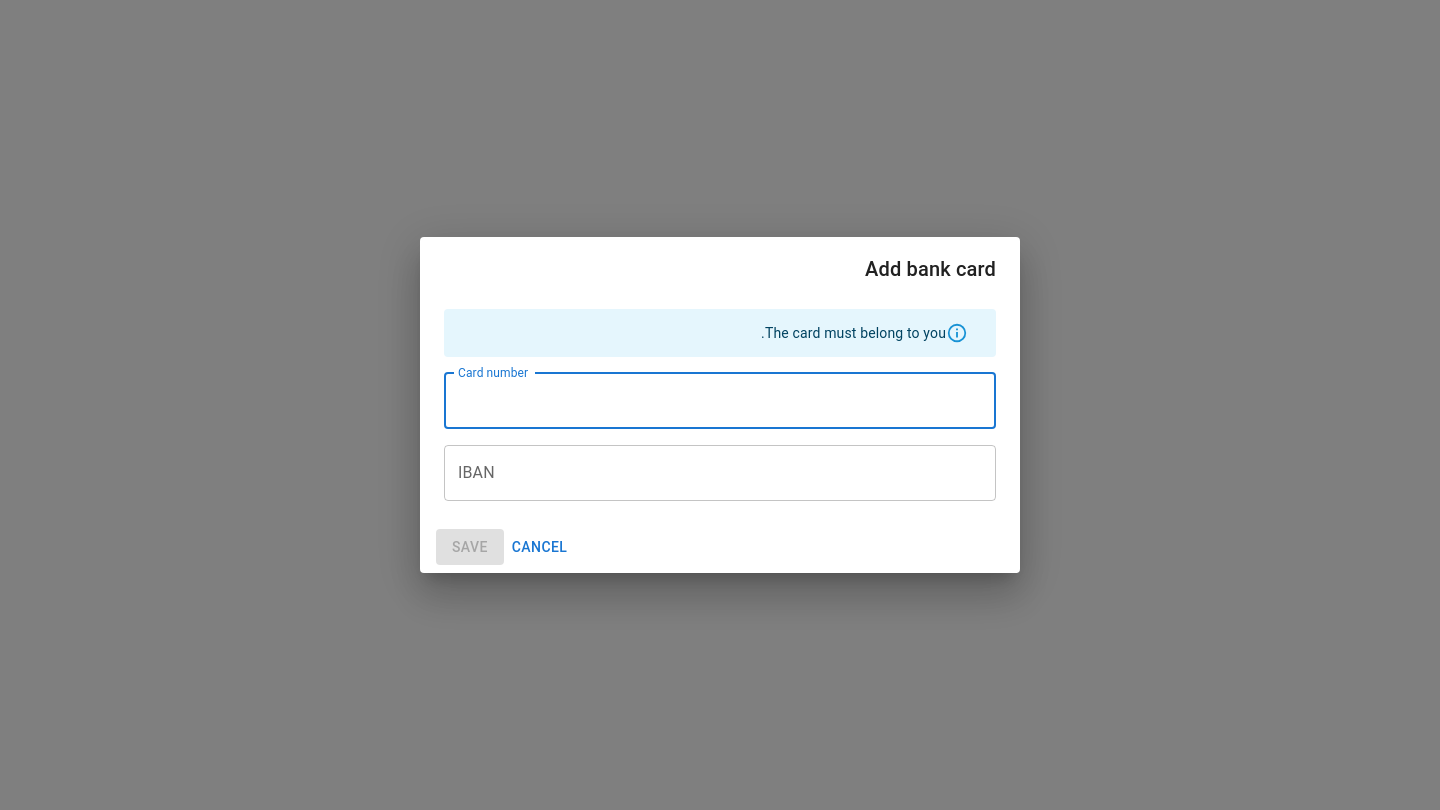
it: AddBankCardDialog › shows localized field errors and blocks invalid submission
Type "1111111111111111" into the field labelled "Card number". click: (720, 401)
box: 444,373 -> 996,429
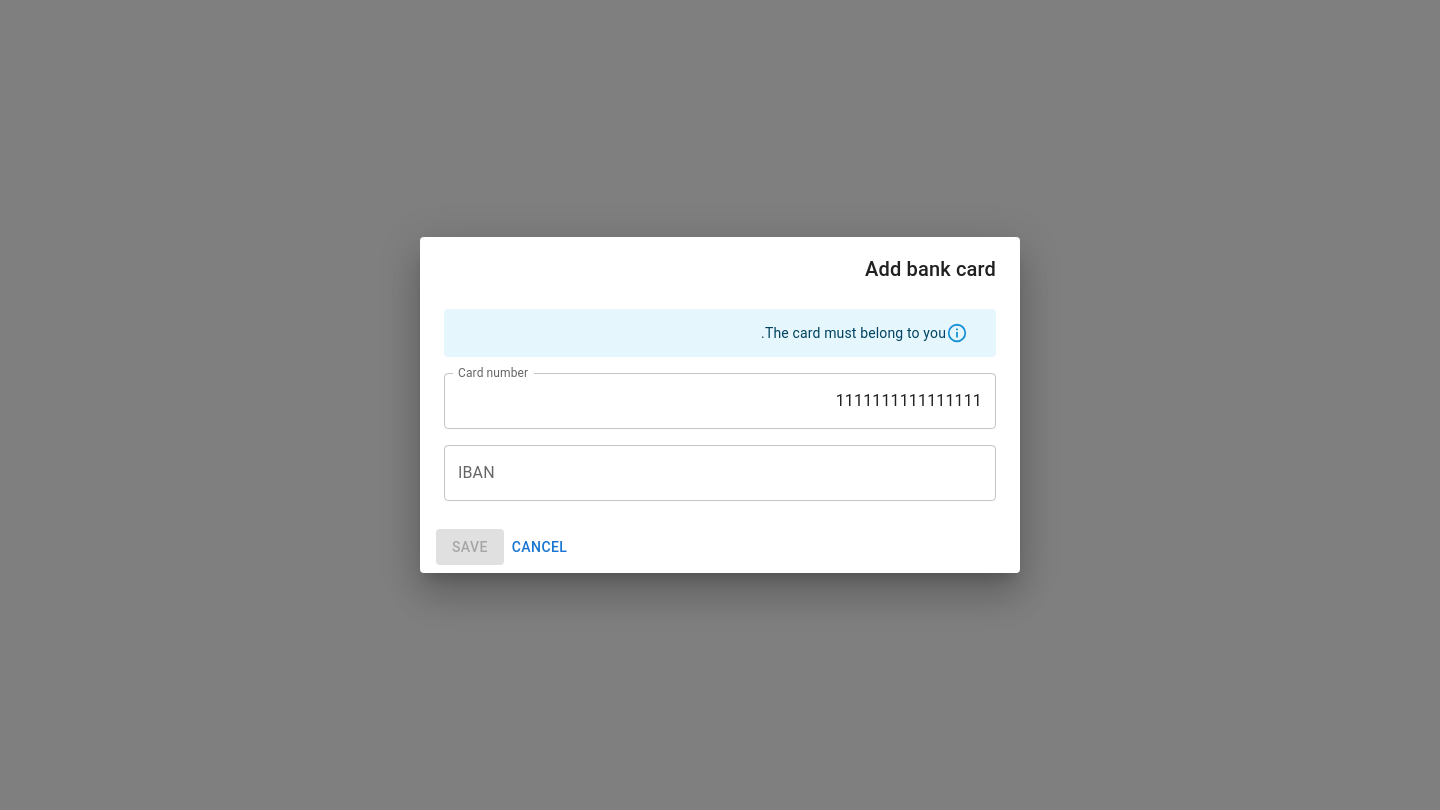
Type "IR00" into the field labelled "IBAN". click: (720, 473)
box: 444,445 -> 996,501
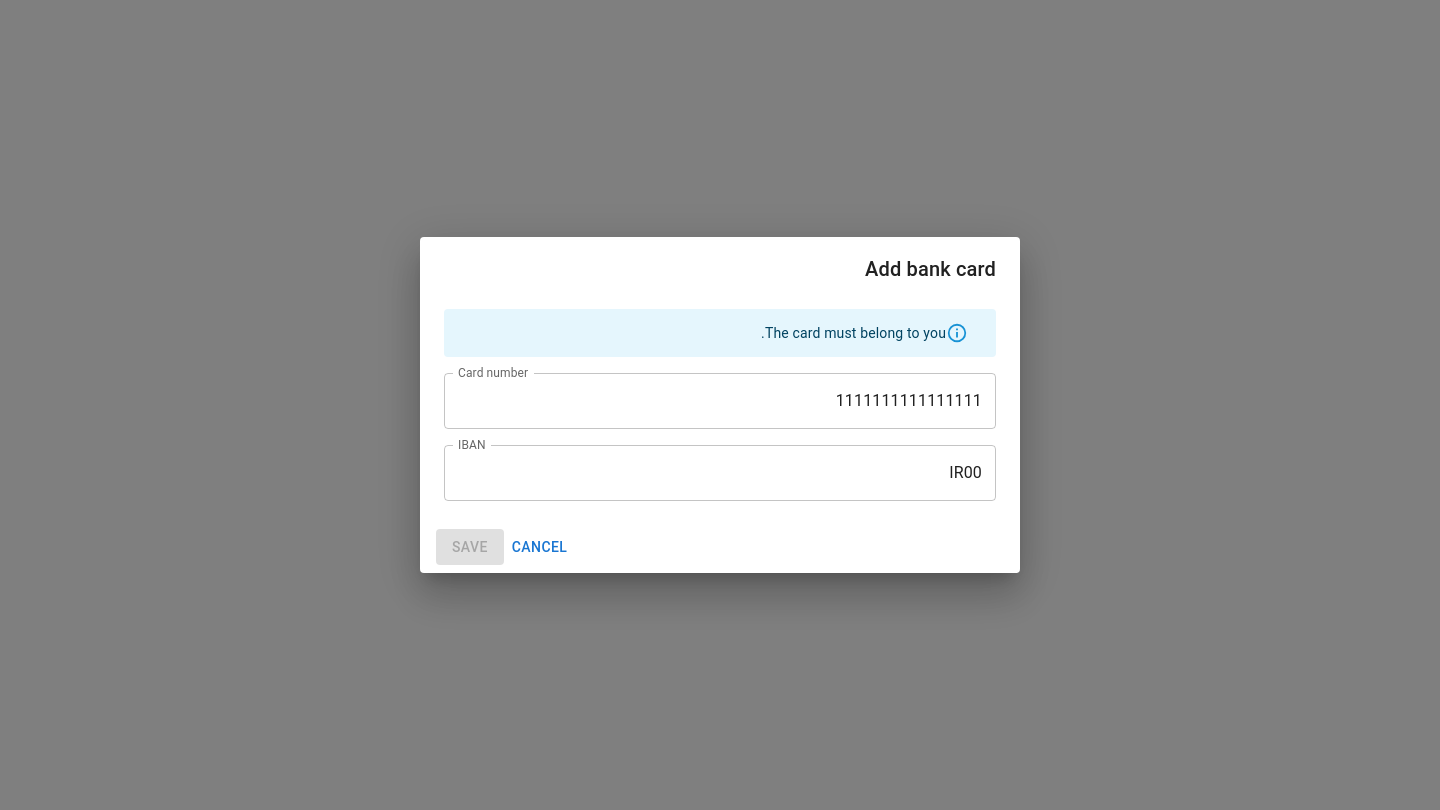
Leave the field labelled "IBAN", box 444,445 -> 996,501
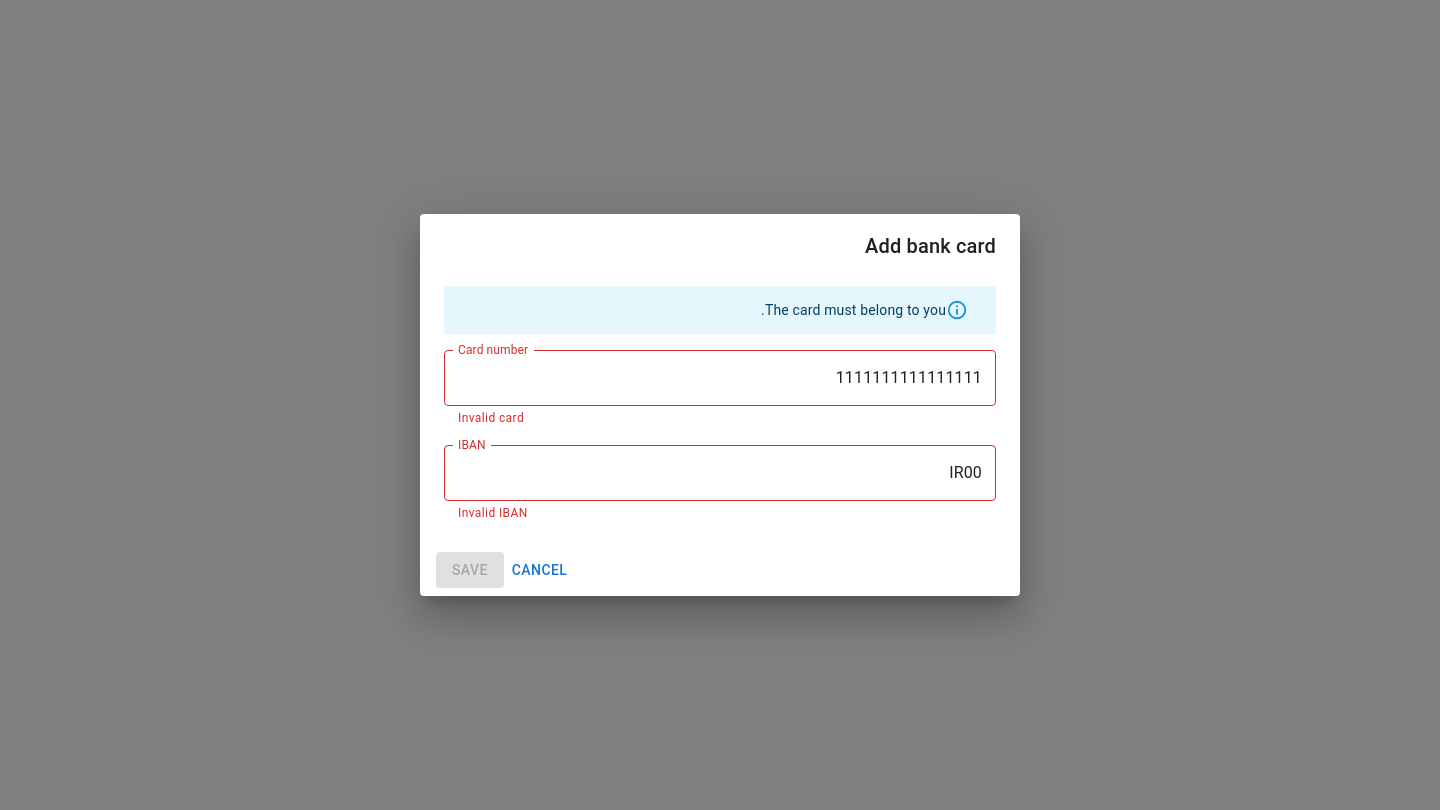
Expected: the button "Save" is disabled, 436,552 -> 504,588
Expected: the text "Invalid card" is shown, 458,411 -> 524,425
Expected: the text "Invalid IBAN" is shown, 458,506 -> 528,520
